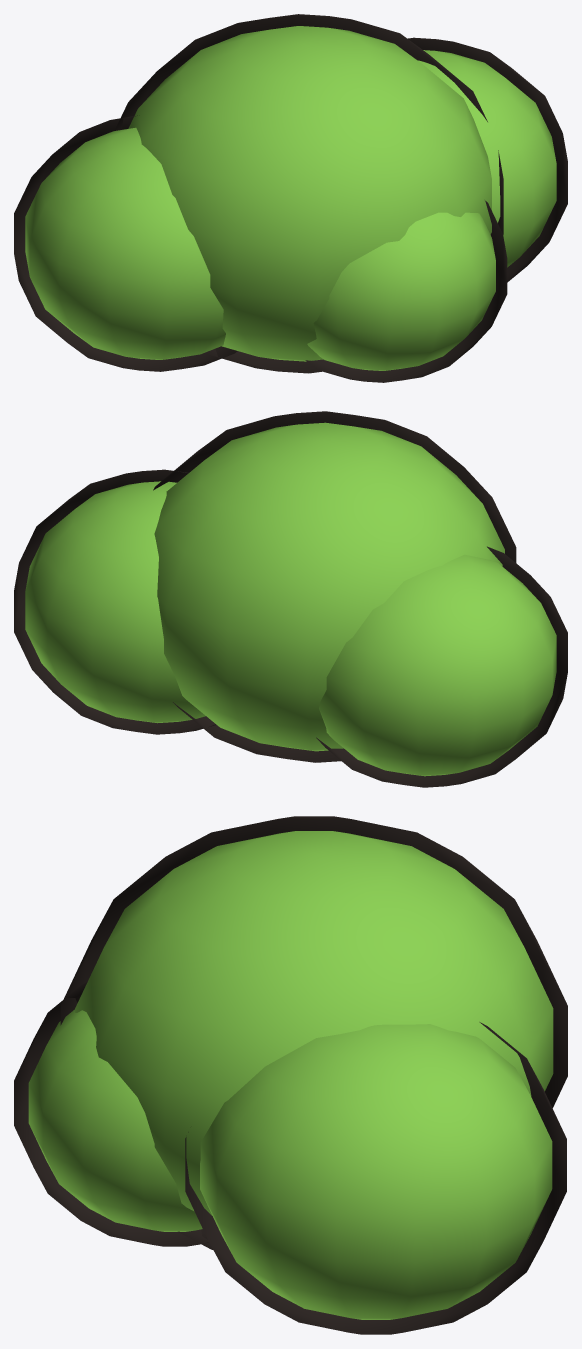
Rendered from Bush_Light.fbx.
3 renders of one model, top to bottom at view 1: azimuth 30°, elevation 25°; view 2: azimuth 150°, elevation 25°; view 3: azimuth 270°, elevation 25°, orthographic. The views are drawn at different scales.
Parts seen in each view (by area): view 1: PR_Bush_Light_Leaf2, PR_Bush_Light_Outline; view 2: PR_Bush_Light_Leaf2, PR_Bush_Light_Outline; view 3: PR_Bush_Light_Leaf2, PR_Bush_Light_Outline.
Boxes of the visible parts, x1,y1,x2,y2 form: PR_Bush_Light_Leaf2: (25,26,556,370); PR_Bush_Light_Outline: (14,14,567,382); PR_Bush_Light_Leaf2: (25,422,556,776); PR_Bush_Light_Outline: (14,411,567,787); PR_Bush_Light_Leaf2: (28,831,553,1319); PR_Bush_Light_Outline: (14,816,567,1334).
Size of the model in its own units: 2.42 by 1.43 by 1.79.
